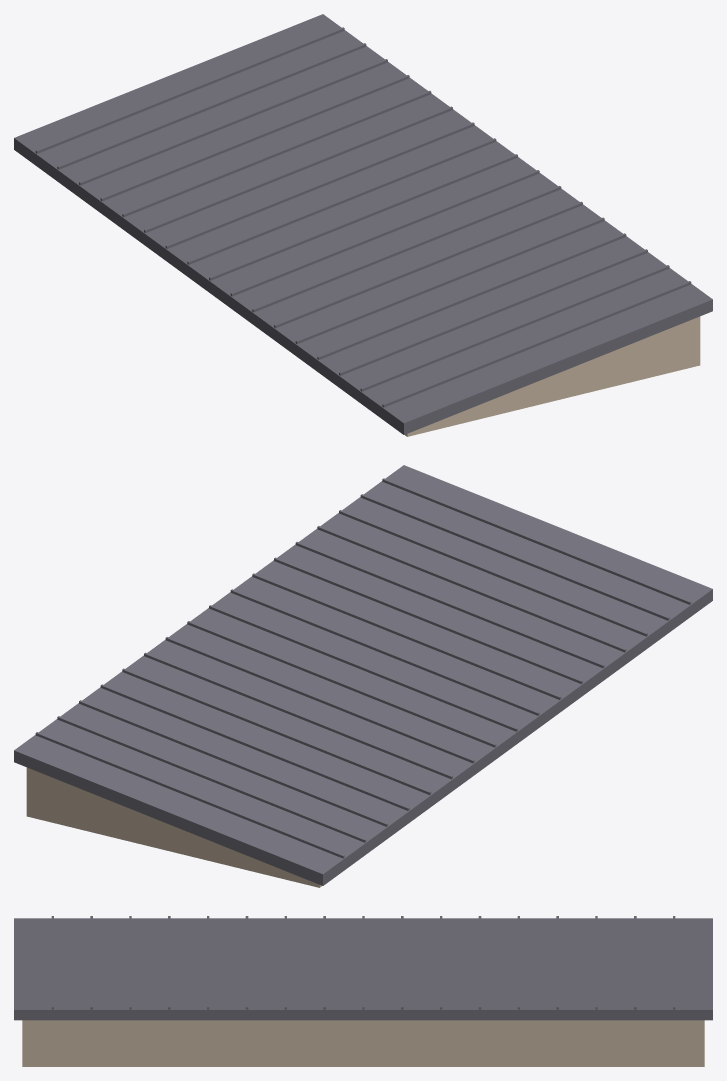
The model's file is SM_Roof_NarrowShedLeft_Cream_364_01.gltf.
3 renders of one model, top to bottom at view 1: azimuth 30°, elevation 25°; view 2: azimuth 150°, elevation 25°; view 3: azimuth 270°, elevation 25°, orthographic. The views are drawn at different scales.
Visible parts, largest first — view 1: SM_Roof_NarrowShedLeft_Cream_364_01; view 2: SM_Roof_NarrowShedLeft_Cream_364_01; view 3: SM_Roof_NarrowShedLeft_Cream_364_01.
Boxes of the visible parts, bbox=[...] form: SM_Roof_NarrowShedLeft_Cream_364_01: bbox=[14, 14, 712, 436]; SM_Roof_NarrowShedLeft_Cream_364_01: bbox=[14, 465, 712, 887]; SM_Roof_NarrowShedLeft_Cream_364_01: bbox=[14, 916, 712, 1066].
Bounding box in the file's own units: 3.84 × 0.8295 × 8.39.
Materials: 1 (1 with a texture image).
